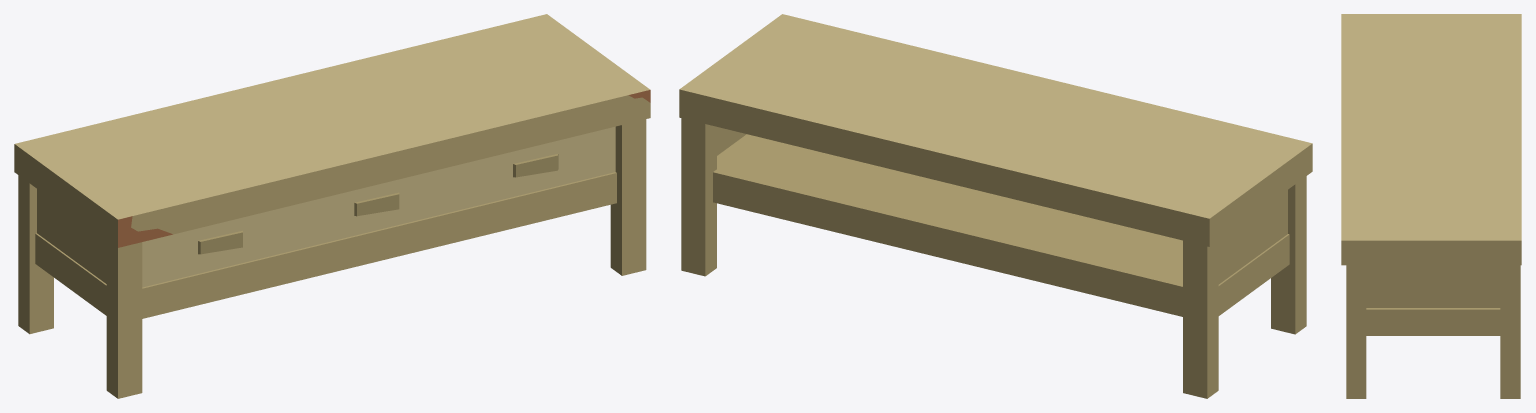
Rendered from MSH_QuestObject_table_07.fbx.
The picture shows the model from 3 angles, left to right: view 1: azimuth 30°, elevation 25°; view 2: azimuth 150°, elevation 25°; view 3: azimuth 270°, elevation 25°; orthographic projection. The views are drawn at different scales.
Parts seen in each view (by area): view 1: MSH_QuestObject_table_07; view 2: MSH_QuestObject_table_07; view 3: MSH_QuestObject_table_07.
Part boxes in pixels (x1=…): MSH_QuestObject_table_07: x1=14, y1=14, x2=650, y2=398; MSH_QuestObject_table_07: x1=679, y1=14, x2=1312, y2=398; MSH_QuestObject_table_07: x1=1341, y1=14, x2=1521, y2=398.
Size of the model in its own units: 4.79 by 1.56 by 1.61.
